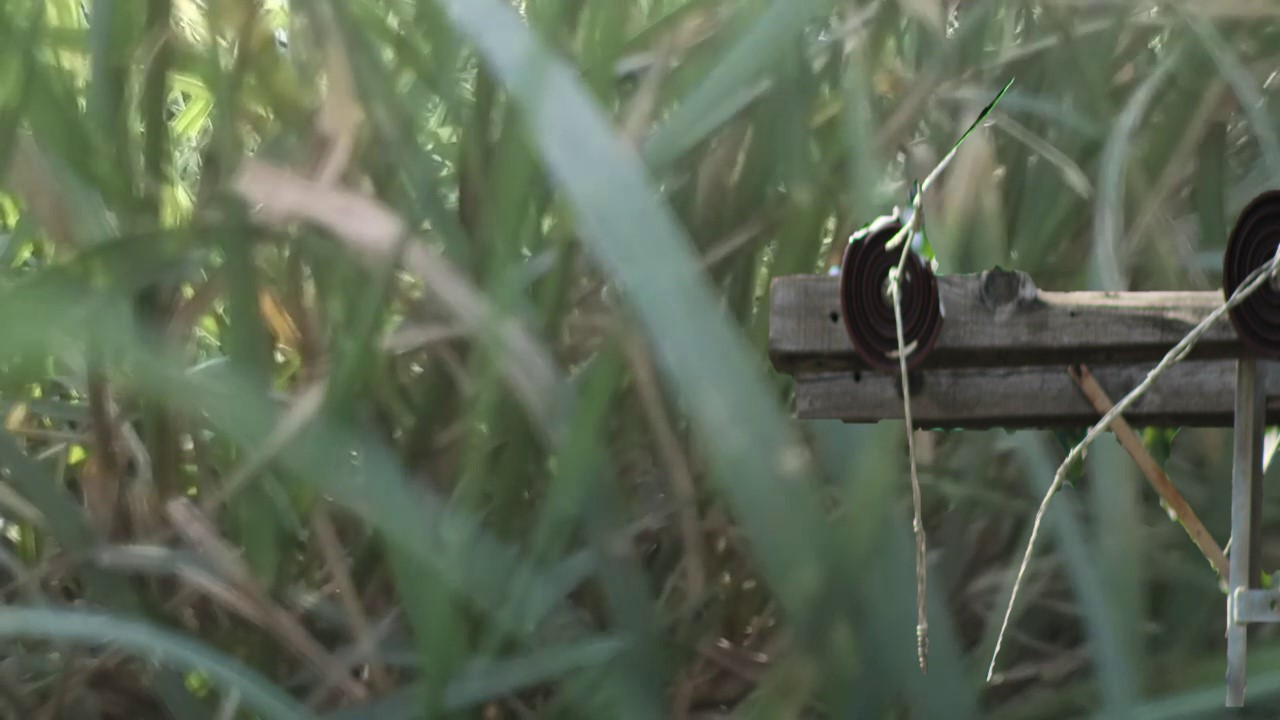defect_disc: (837, 208, 955, 379)
